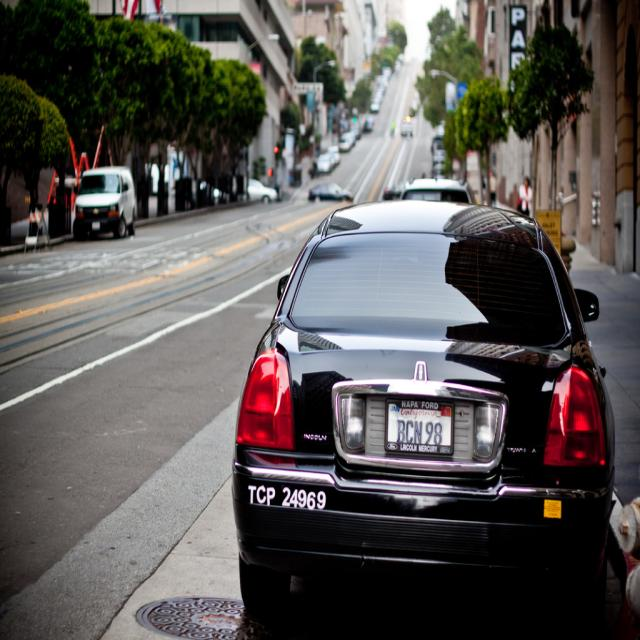car: (231, 201, 612, 628), (71, 163, 136, 239), (308, 180, 351, 200), (401, 115, 411, 136)
